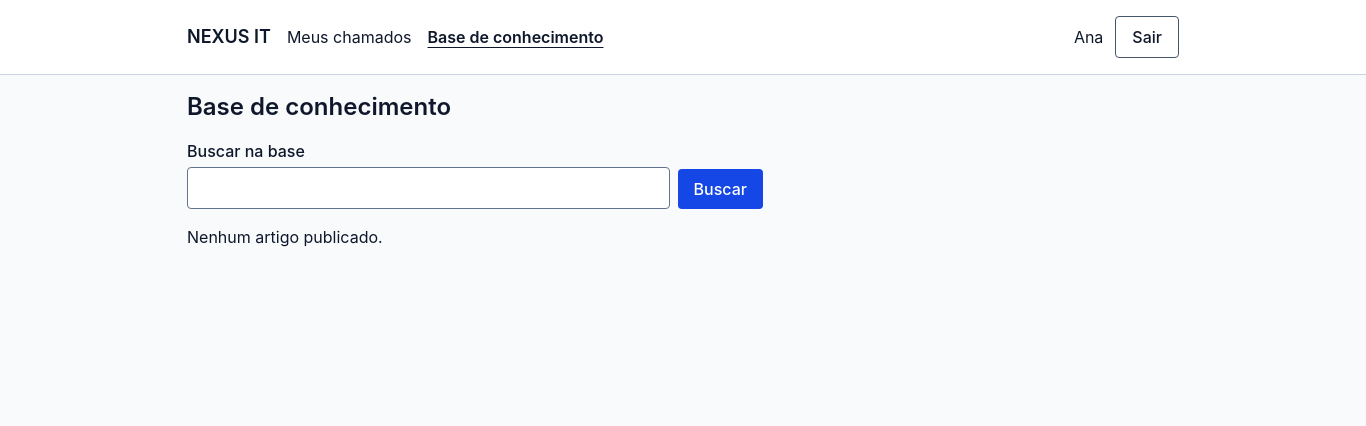
Scenario: aviso do modo da busca (FR-13) › degradada: avisa que a semântica não respondeu e que o resultado é por palavras
Type "impressora" into the search field labelled "Buscar na base".
click(428, 188); type("impressora")  # box x1=187 y1=167 x2=670 y2=209
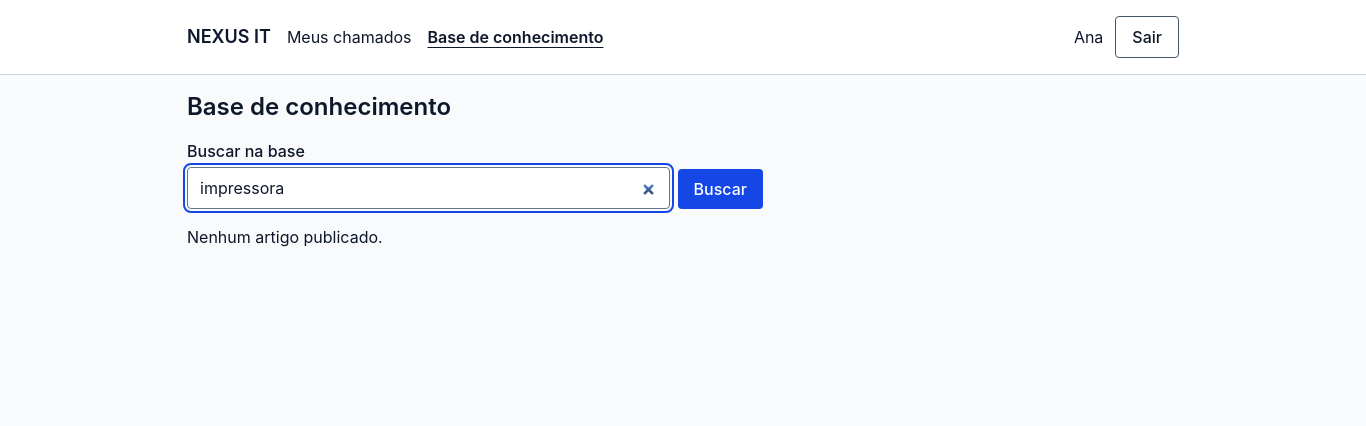
Click the button "Buscar".
click(720, 189)  # box x1=678 y1=169 x2=763 y2=209
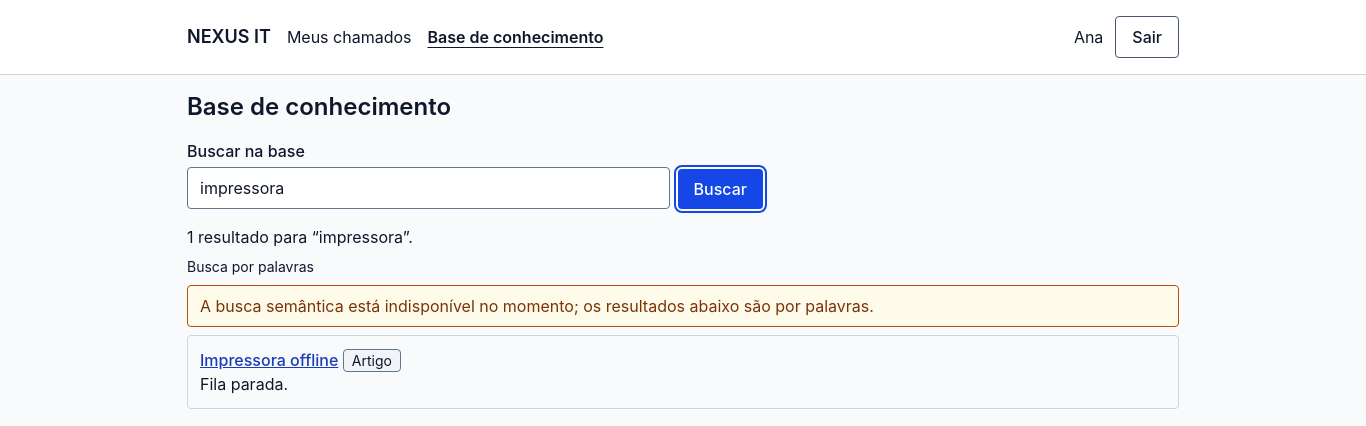
Now the link "Impressora offline" is shown, box x1=200 y1=350 x2=338 y2=370
Now the text "A busca semântica está indisponível" is shown, box x1=200 y1=296 x2=874 y2=316
Now the text "por palavras" is shown, box x1=200 y1=296 x2=874 y2=316
